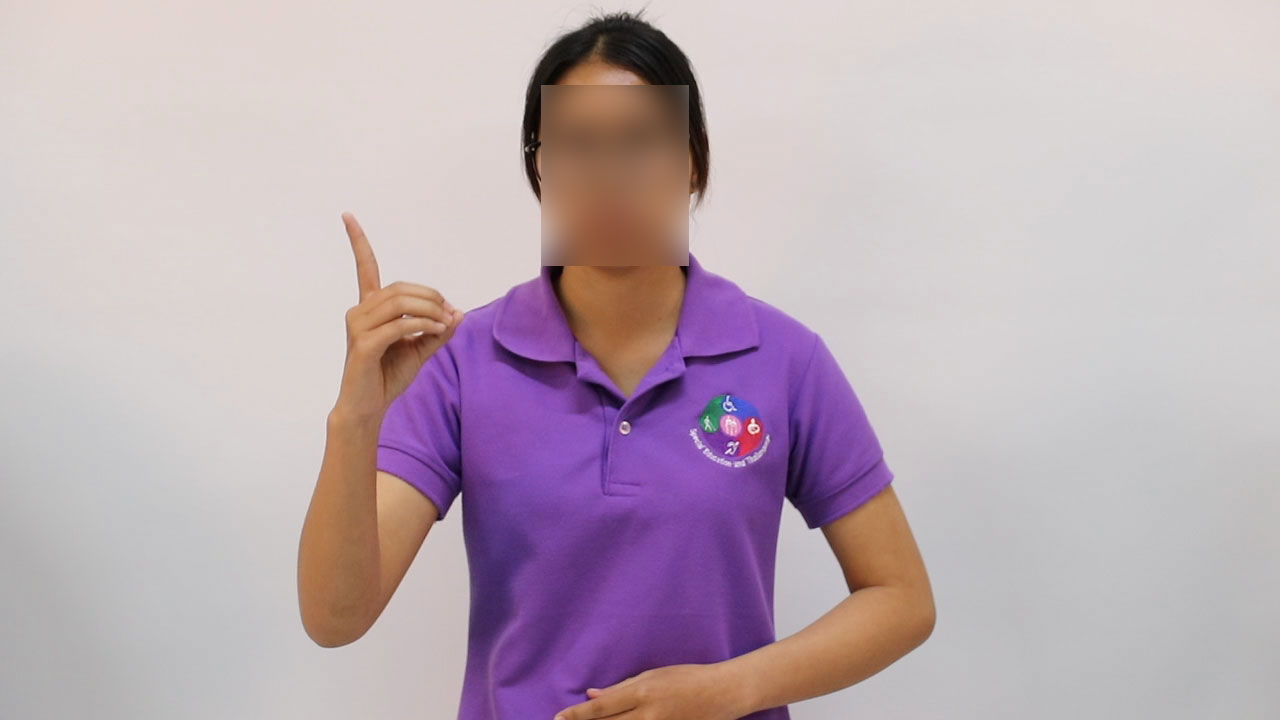dor: (321, 202, 470, 415)
